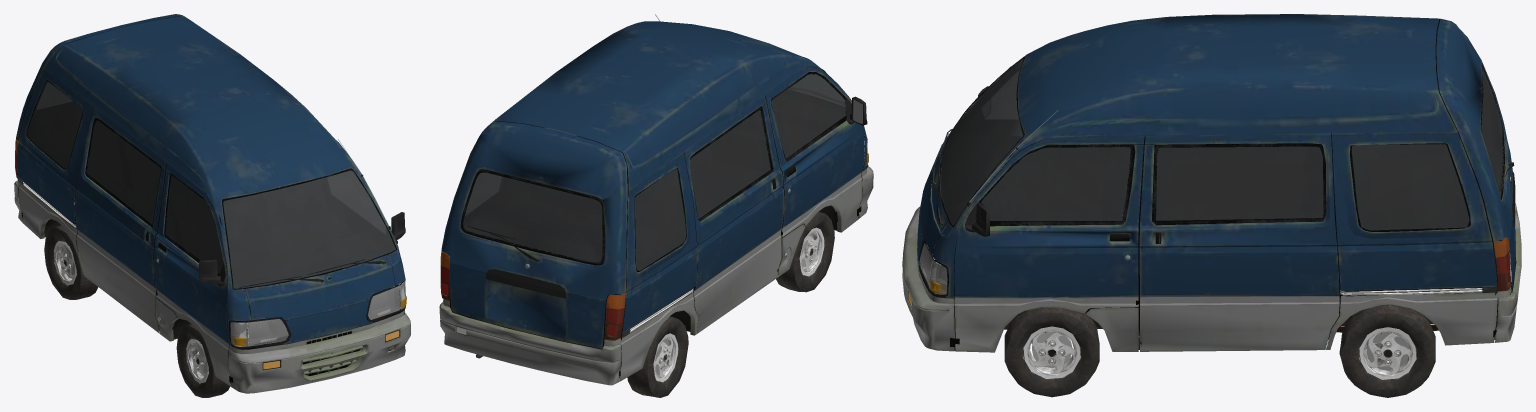
The model's file is hijet.glb.
3 renders of one model, left to right at view 1: azimuth 30°, elevation 25°; view 2: azimuth 150°, elevation 25°; view 3: azimuth 270°, elevation 25°, orthographic. The views are drawn at different scales.
Parts seen in each view (by area): view 1: part0, part2, part1, part15, wheel_RB, wheel_RF, part27, part11, part17, part10, part26; view 2: part0, part2, part1, part15, wheel_RB, wheel_RF, part13, part3, part14, part26; view 3: part0, part2, part1, wheel_LB, wheel_LF, part15, part27, part17, part13, part11, part18.
Part boxes in pixels (x1,y1,x2,y2): part0: (14, 14, 410, 393); part2: (27, 81, 395, 288); part1: (18, 15, 404, 383); part15: (26, 80, 396, 289); wheel_RB: (44, 225, 98, 299); wheel_RF: (176, 324, 229, 397); part27: (230, 281, 406, 346); part11: (230, 281, 406, 346); part17: (199, 212, 405, 286); part10: (229, 279, 405, 349); part26: (44, 205, 341, 369); part0: (439, 21, 873, 385); part2: (463, 74, 845, 270); part1: (442, 66, 864, 377); part15: (460, 57, 846, 271); wheel_RB: (627, 316, 688, 397); wheel_RF: (776, 211, 834, 292); part13: (440, 250, 625, 340); part3: (485, 177, 566, 298); part14: (441, 253, 624, 339); part26: (619, 205, 837, 378); part0: (902, 14, 1521, 352); part2: (940, 58, 1503, 230); part1: (919, 19, 1516, 350); wheel_LB: (1339, 304, 1435, 397); wheel_LF: (1004, 307, 1099, 397); part15: (940, 56, 1505, 231); part27: (920, 244, 946, 294); part17: (965, 86, 989, 236); part13: (1493, 236, 1511, 291); part11: (920, 244, 946, 294); part18: (931, 129, 1514, 225).
Size of the model in its own units: 1.64 by 1.85 by 3.4.
6 materials, 6 textured.
